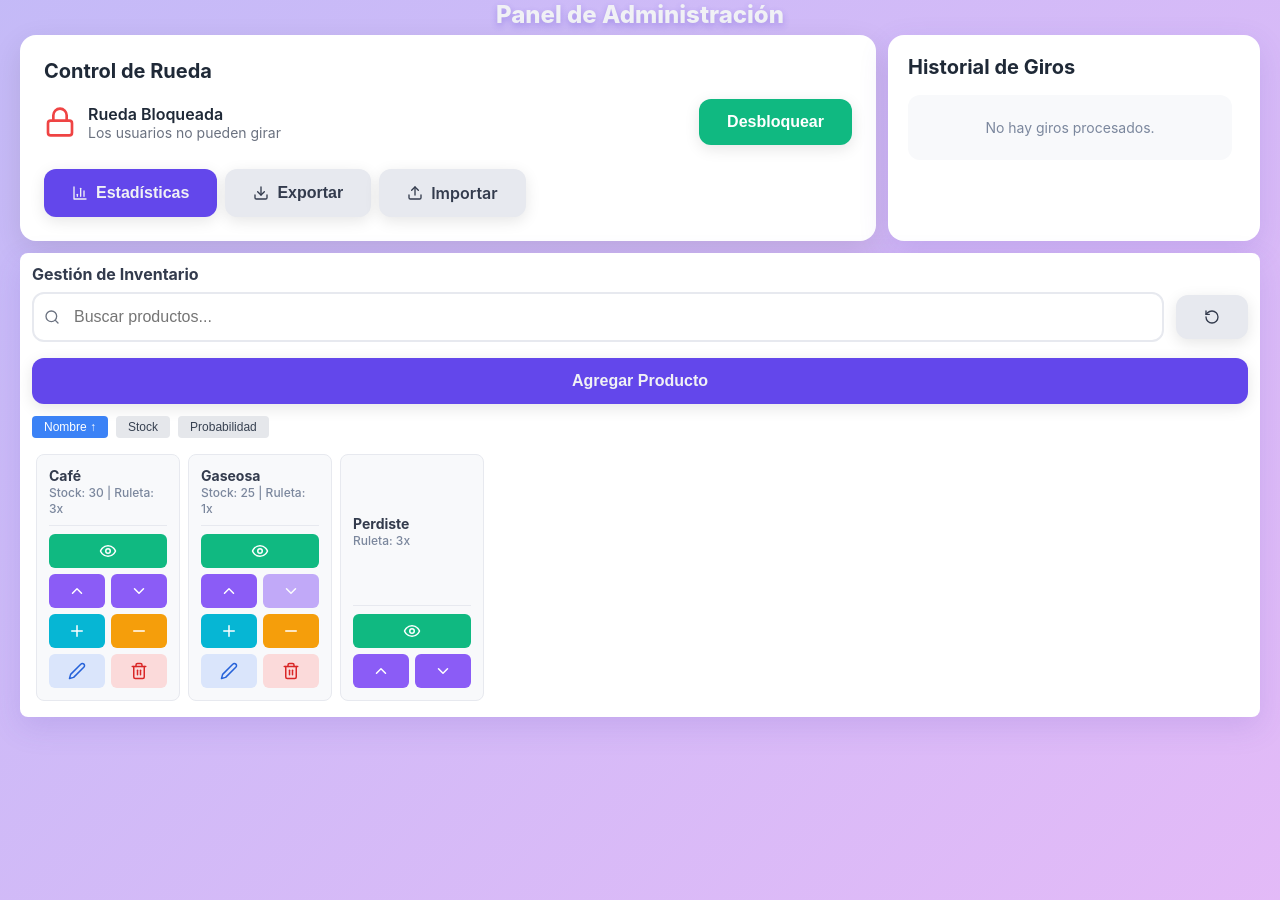
Scenario: AdminPage › should cancel delete
The image size is (1280, 900).
Click the button titled "Eliminar producto" below "Stock: 30 | Ruleta: 3x".
click(139, 671)  # box [111, 654, 167, 688]
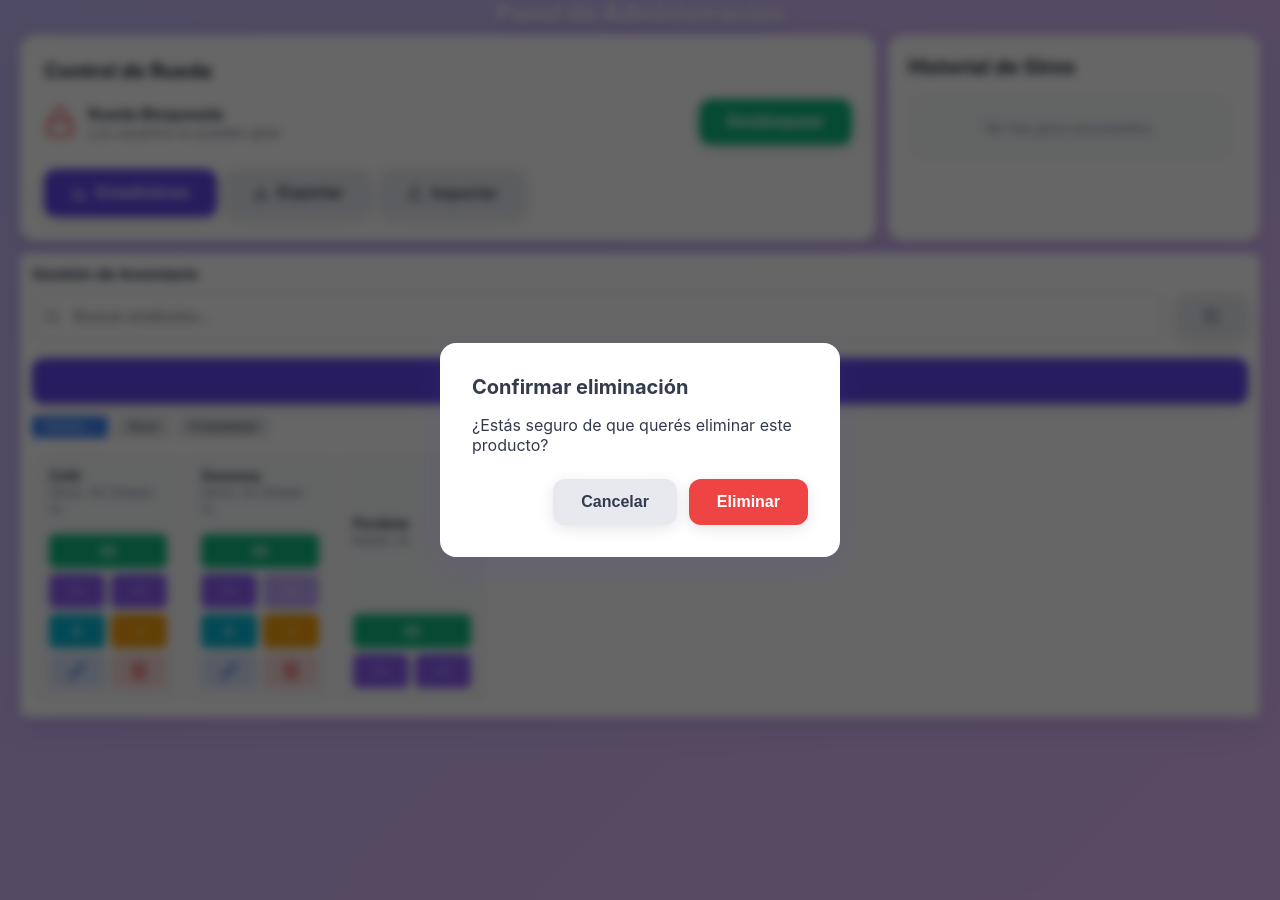
Click the button "Cancelar".
click(615, 502)  # box [553, 479, 677, 525]
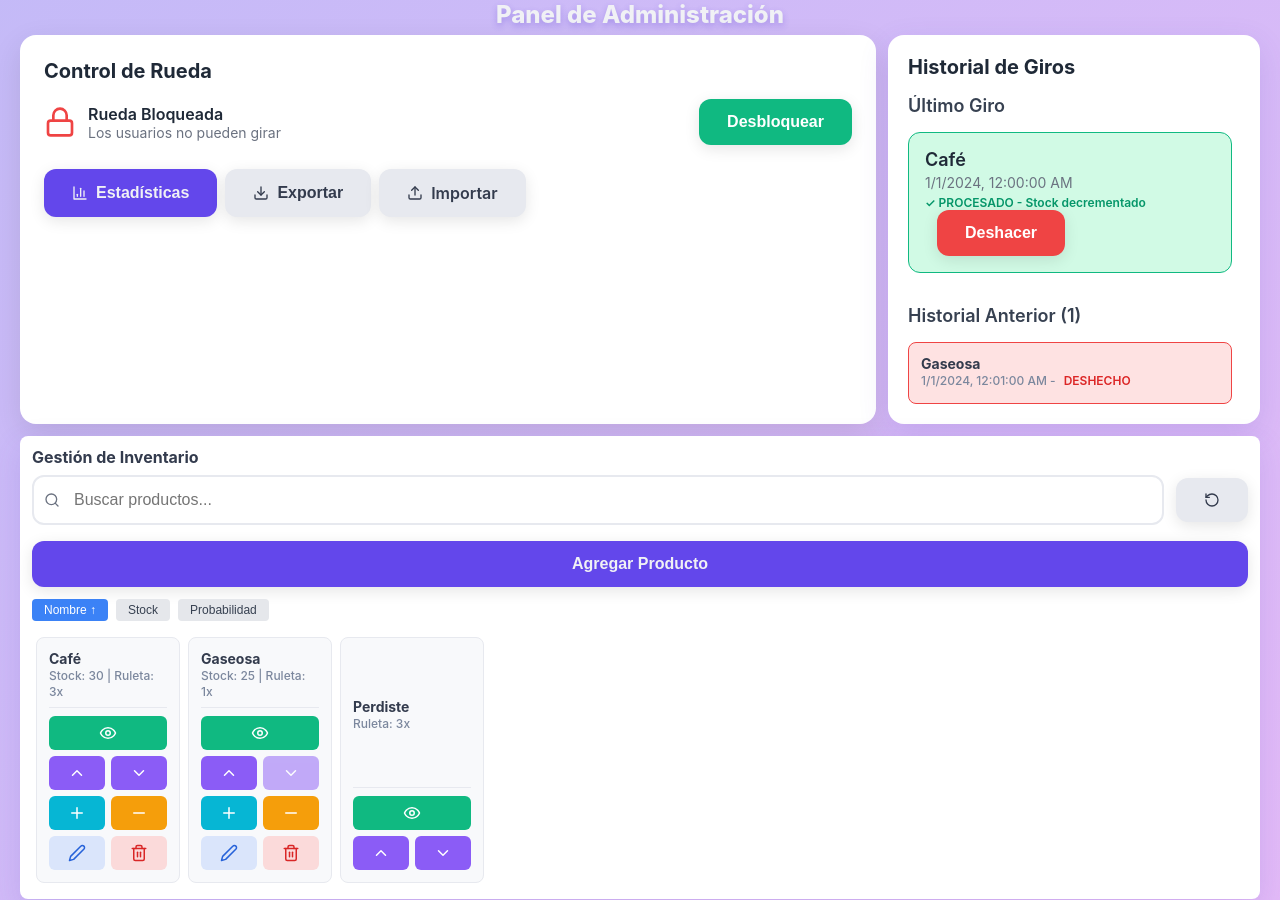
Check: the heading "Confirmar eliminación" is gone
